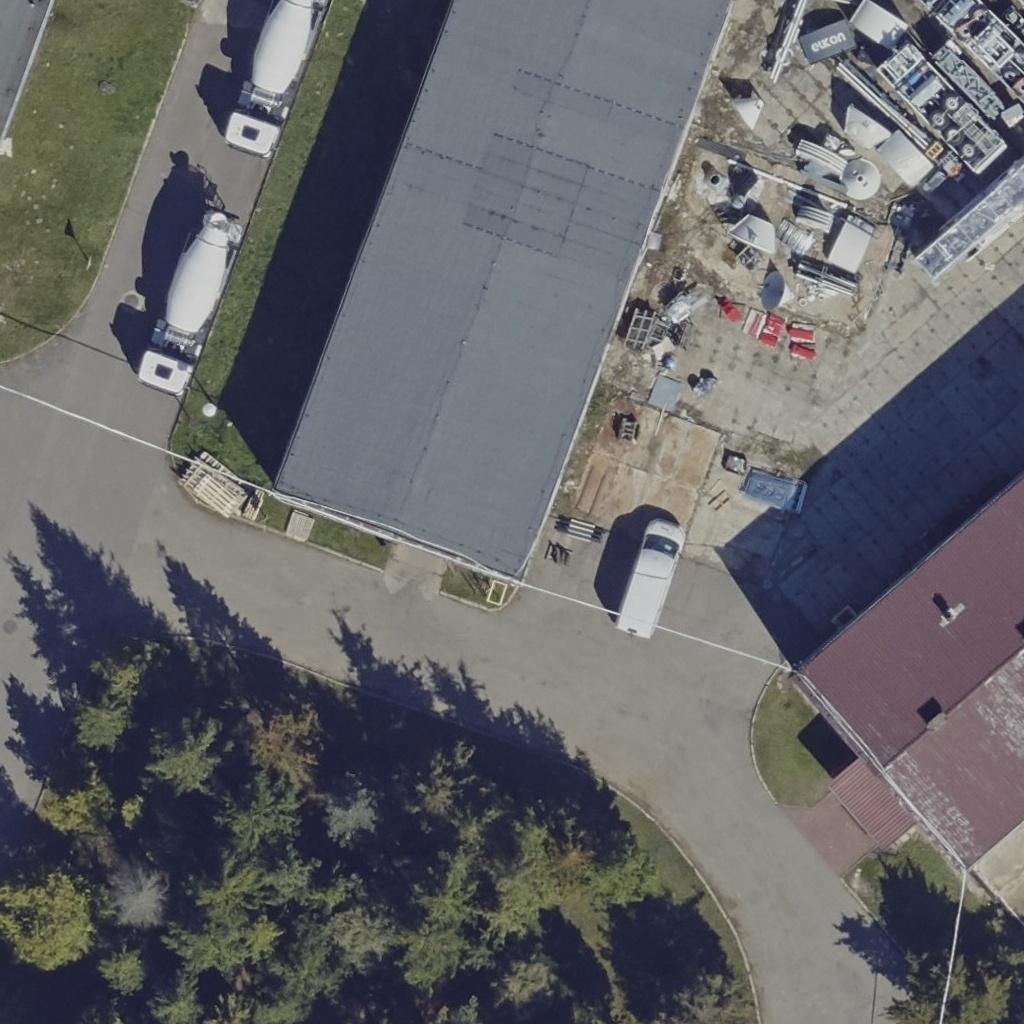betoniarka: (138, 210, 241, 396), (224, 0, 325, 157)
